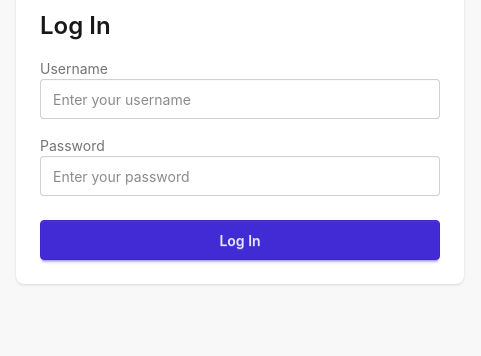
it: LoginPage › does not navigate when the login fails
Type "sam" into the field with placeholder "Enter your username" at (240, 99), box [40,79,440,119]
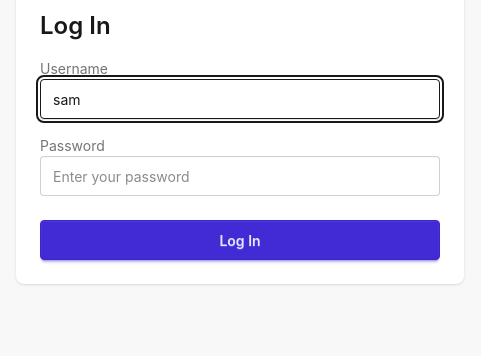
Type "wrong-password" into the password field with placeholder "Enter your password" at (240, 176), box [40,156,440,196]
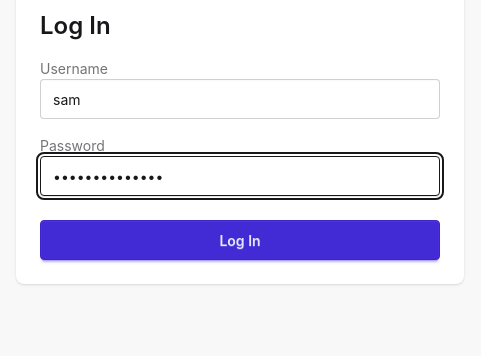
Click the button "Log In" at (240, 240), box [40,220,440,260]
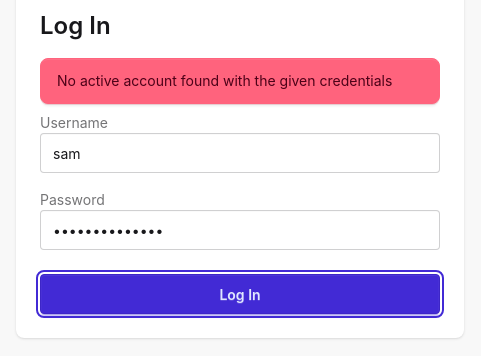
Check: the text "No active account found with the given credentials" is shown, box [57,71,392,91]
